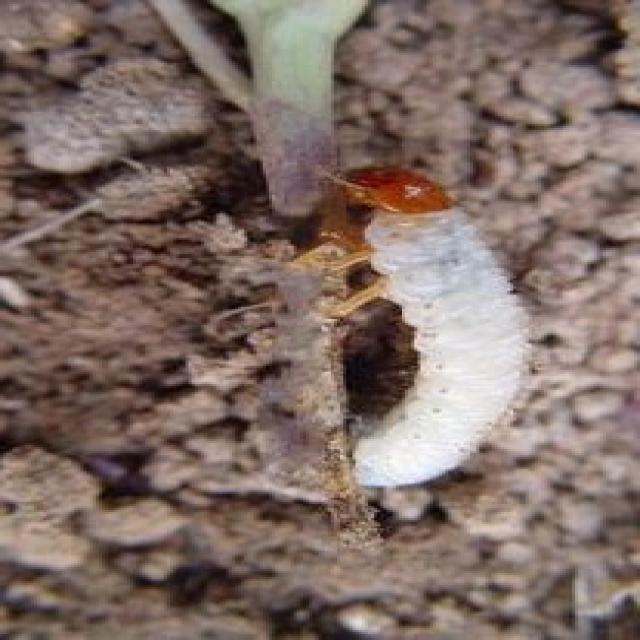grub: (331, 167, 538, 502)
